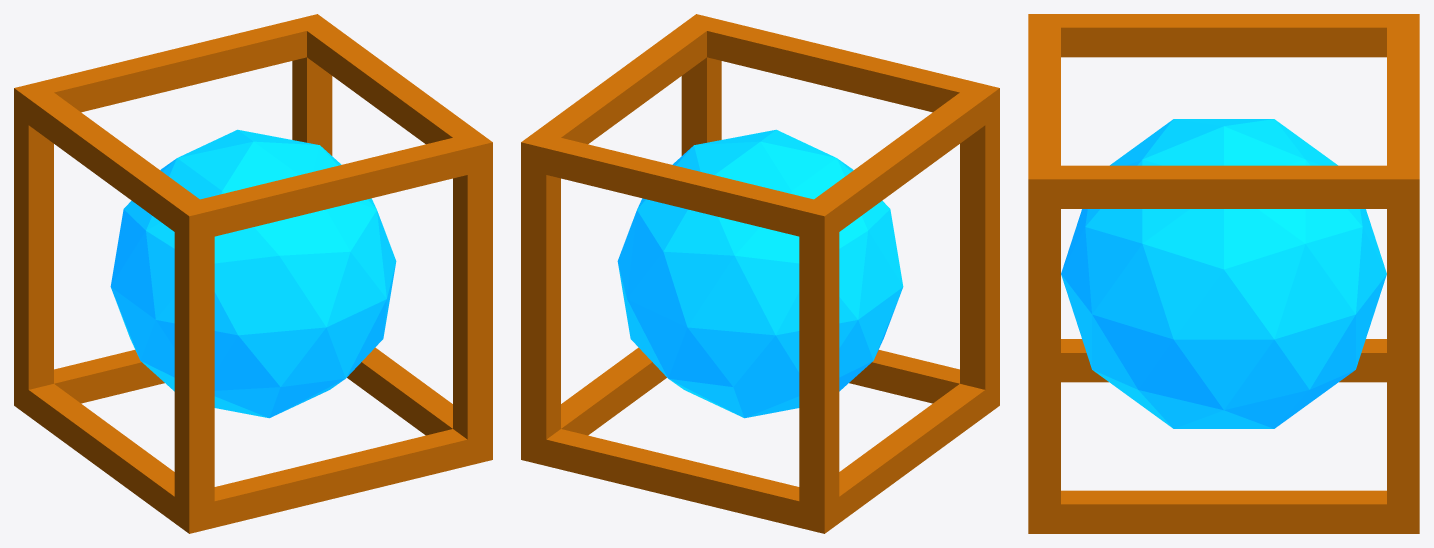
The model's file is Tower_Debug.glb.
The picture shows the model from 3 angles, left to right: view 1: azimuth 30°, elevation 25°; view 2: azimuth 150°, elevation 25°; view 3: azimuth 270°, elevation 25°; orthographic projection. The views are drawn at different scales.
Visible parts, largest first — view 1: Cube, Icosphere; view 2: Cube, Icosphere; view 3: Cube, Icosphere.
Part boxes in pixels (left/top/right/bottom): Cube: left=14, top=14, right=492, bottom=533; Icosphere: left=110, top=129, right=396, bottom=418; Cube: left=521, top=14, right=999, bottom=533; Icosphere: left=617, top=129, right=903, bottom=418; Cube: left=1028, top=14, right=1419, bottom=533; Icosphere: left=1061, top=119, right=1386, bottom=428.
Size of the model in its own units: 2.4 by 2.4 by 2.4.
